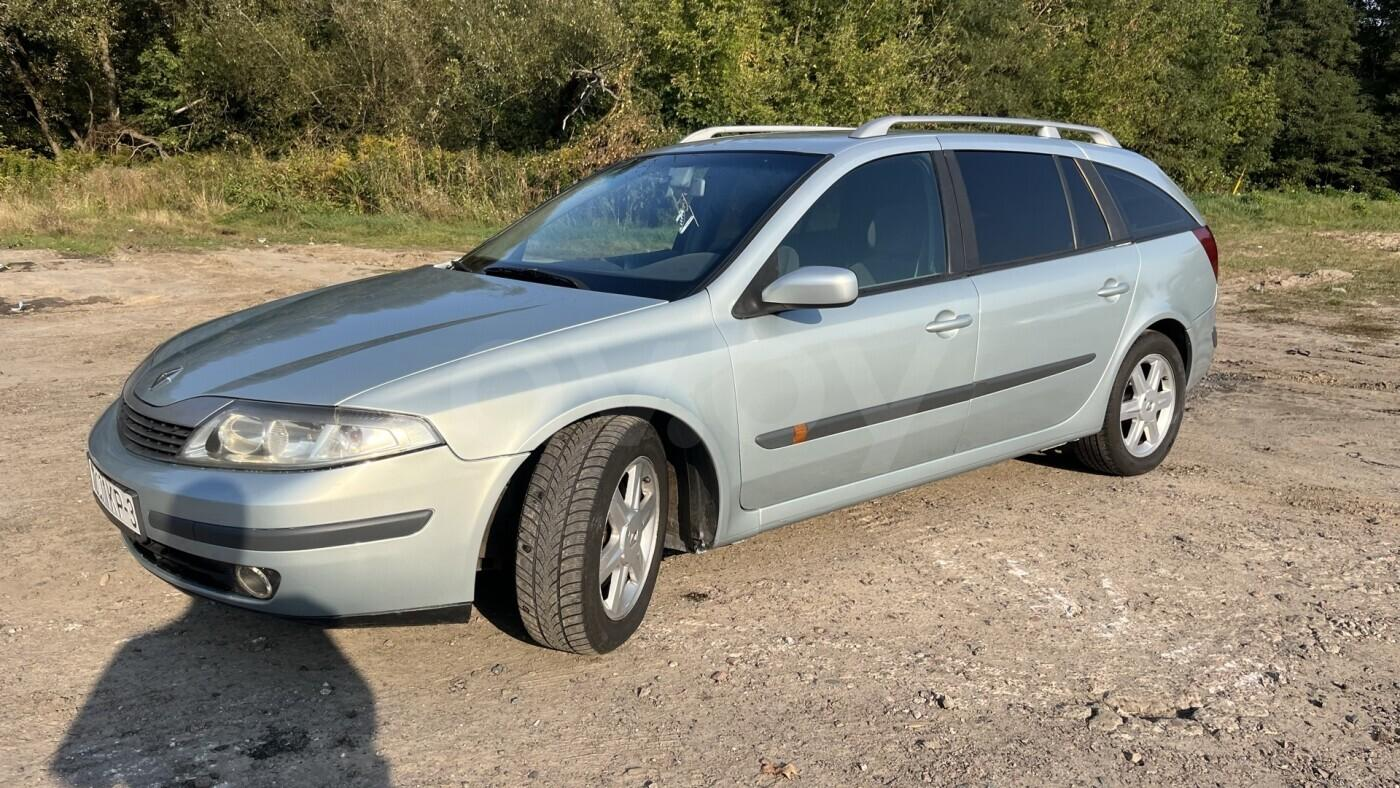Laguna_2001-2005: (85, 115, 1217, 654)
